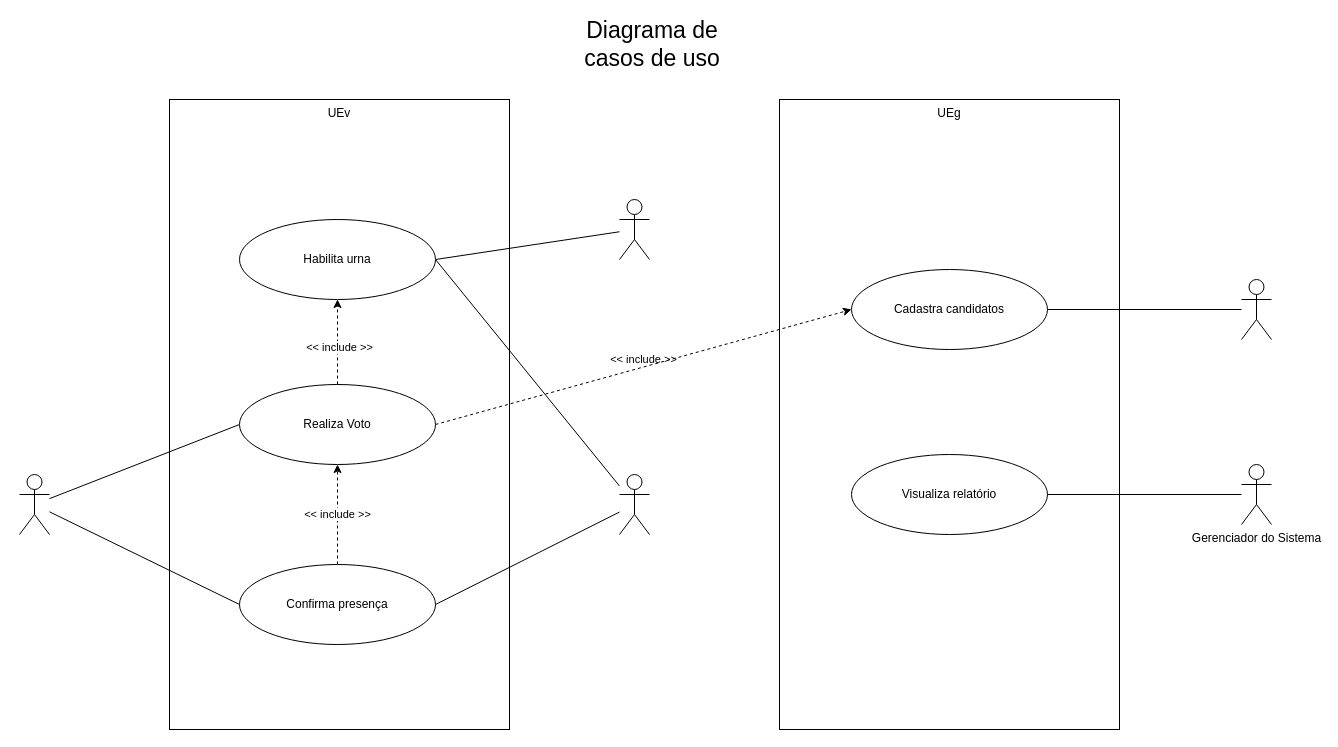
Some shapes in this 1338 by 747 pixel diagram are drawn without their labels. The centre of each missing label's shape, as x and y in pixels:
Eleitor: the point at 34,504
Mesário: the point at 634,504
TSE: the point at 1256,309
Urna: the point at 634,229
